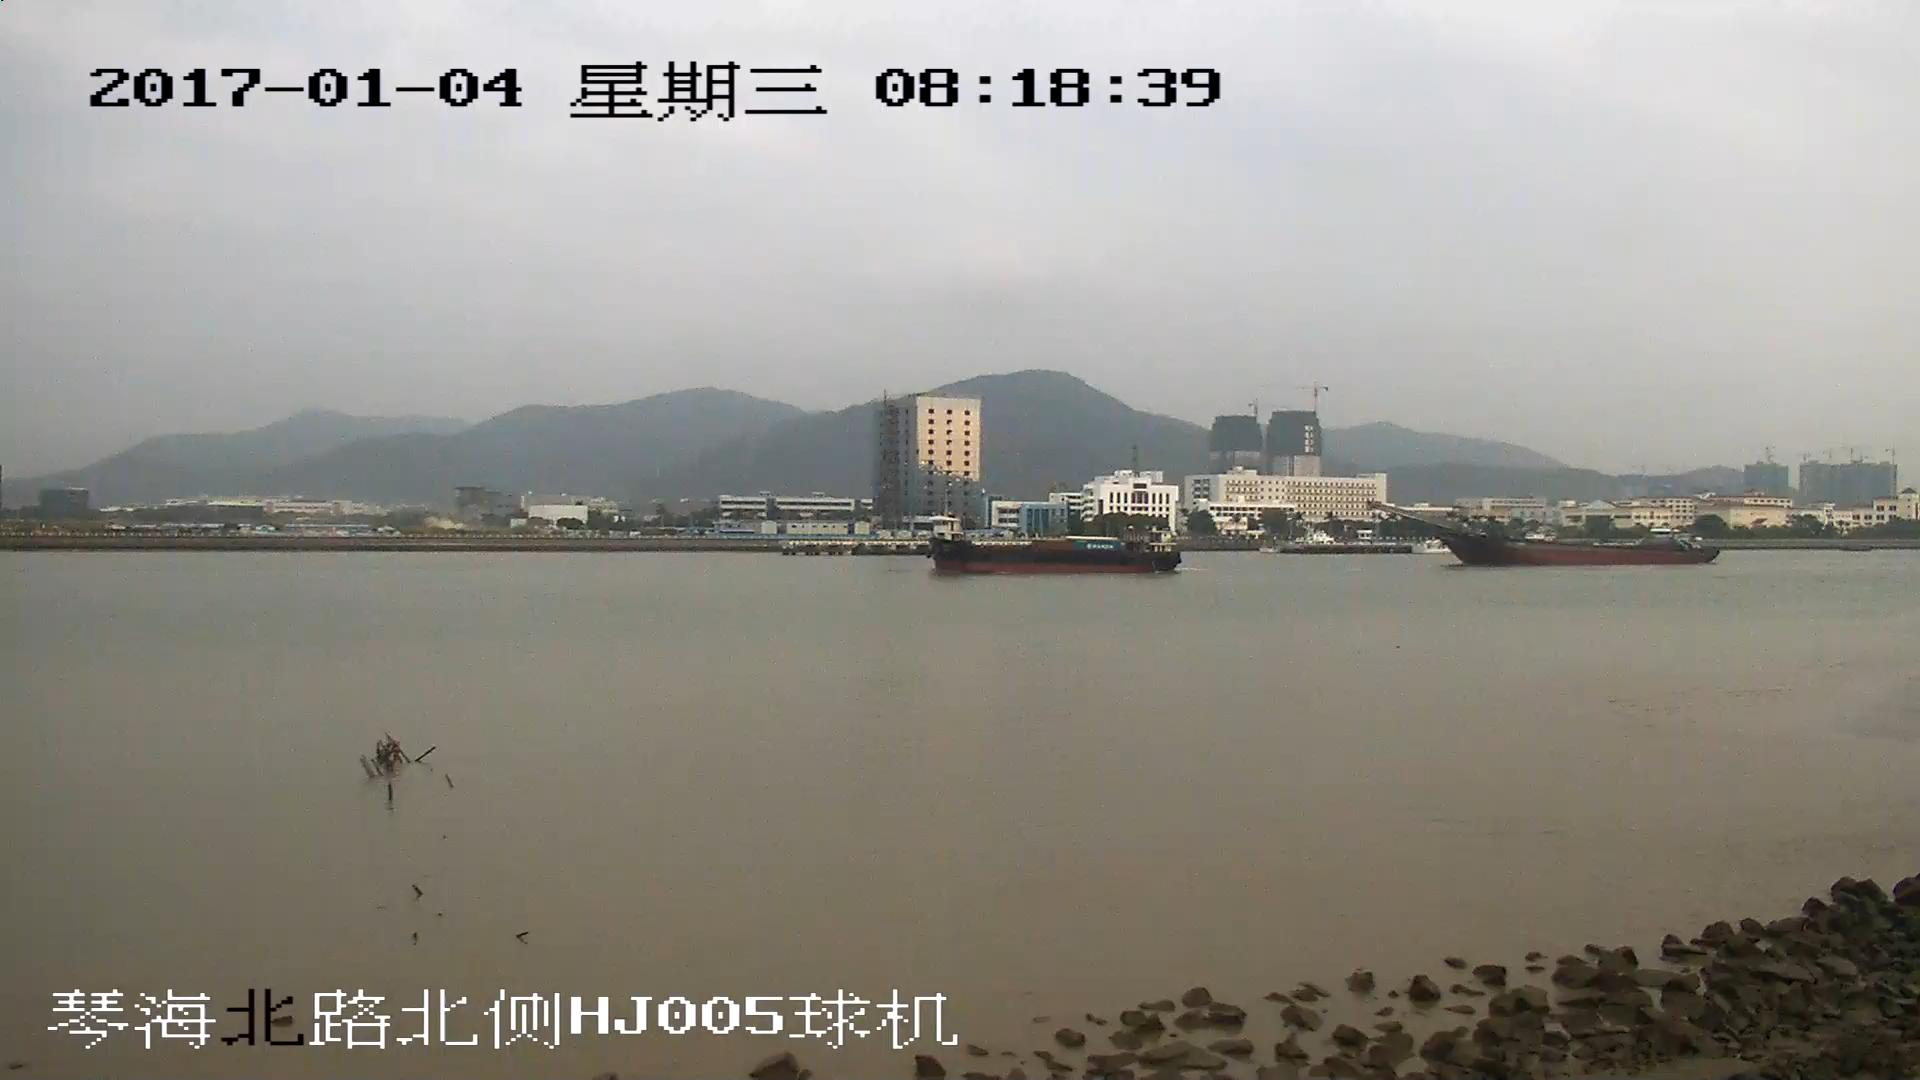bulk cargo carrier: (1368, 503, 1721, 566)
container ship: (924, 528, 1186, 573)
